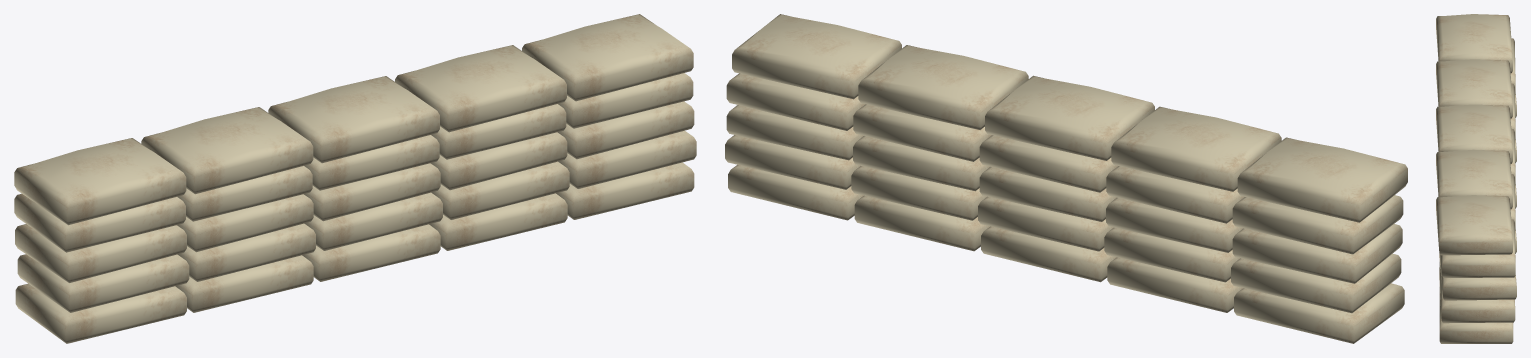
The model's file is Sandbags.fbx.
3 renders of one model, left to right at view 1: azimuth 30°, elevation 25°; view 2: azimuth 150°, elevation 25°; view 3: azimuth 270°, elevation 25°, orthographic. The views are drawn at different scales.
Visible parts, largest first — view 1: Cube; view 2: Cube; view 3: Cube.
Boxes of the visible parts, x1,y1,x2,y2 form: Cube: (14,14,696,343); Cube: (725,14,1407,343); Cube: (1436,14,1516,343).
Bounding box in the file's own units: 10.51 × 1.58 × 2.43.
1 material, 1 textured.
